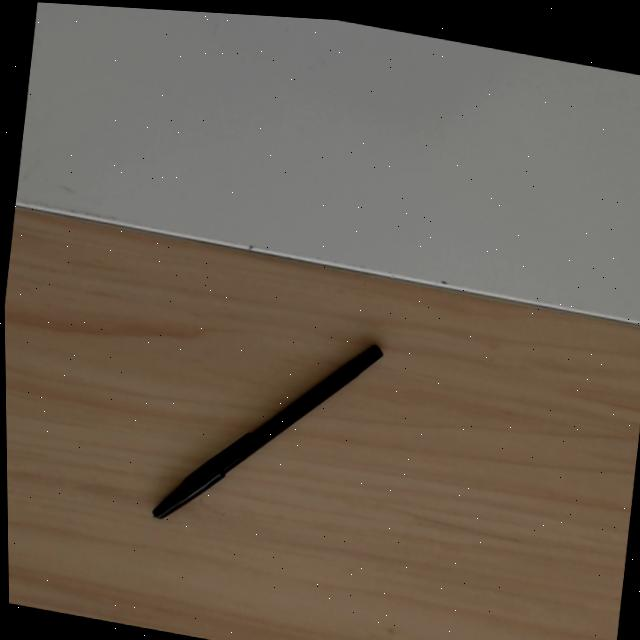Pulpen-Hitam: (145, 335, 384, 526)
